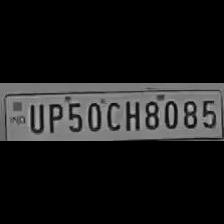0: (84, 100, 103, 132), (160, 97, 178, 130)
5: (64, 99, 84, 133), (198, 96, 218, 130)
8: (178, 96, 198, 130), (140, 97, 160, 130)
C: (102, 98, 122, 132)
H: (121, 97, 141, 132)
P: (44, 100, 64, 134)
U: (25, 101, 45, 133)
